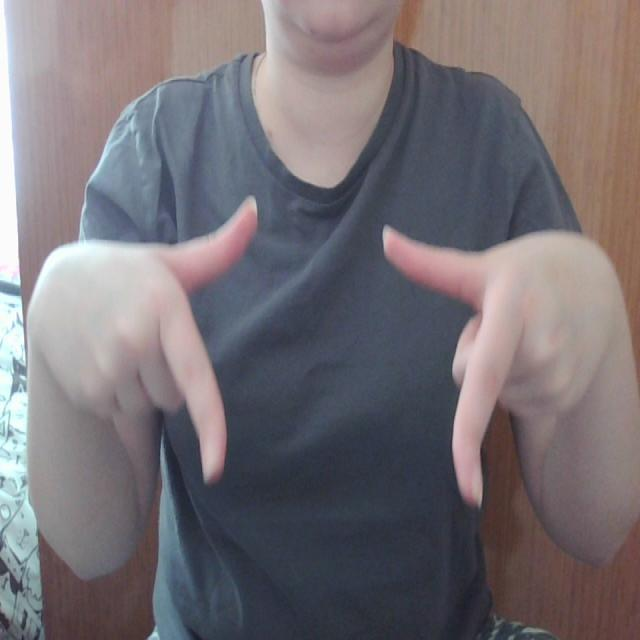Nerede: (150, 189, 530, 513)
